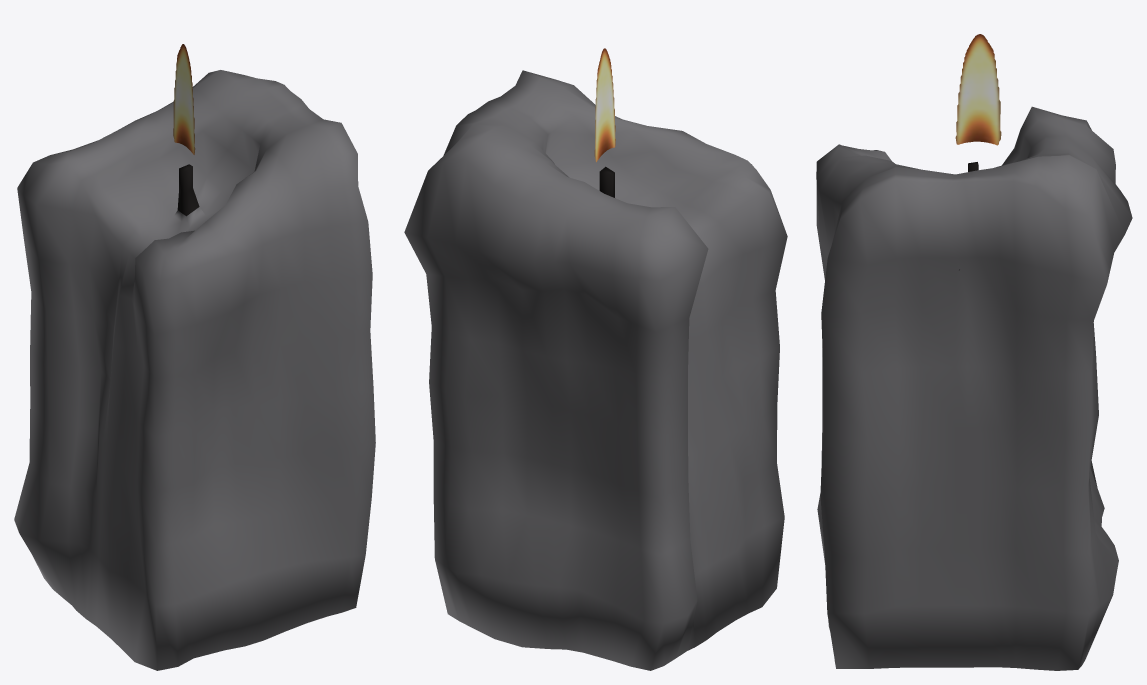
Rendered from candle tall.fbx.
3 renders of one model, left to right at view 1: azimuth 30°, elevation 25°; view 2: azimuth 150°, elevation 25°; view 3: azimuth 270°, elevation 25°, orthographic. The views are drawn at different scales.
Parts seen in each view (by area): view 1: candle tall, candlie tall_flame; view 2: candle tall, candlie tall_flame; view 3: candle tall, candlie tall_flame.
Boxes of the visible parts, x1,y1,x2,y2 form: candle tall: (14, 70, 375, 670); candlie tall_flame: (173, 44, 195, 154); candle tall: (404, 70, 787, 670); candlie tall_flame: (594, 48, 615, 162); candle tall: (816, 106, 1132, 670); candlie tall_flame: (955, 34, 1001, 145).
Bounding box in the file's own units: 0.071 × 0.1507 × 0.07.
2 materials, 2 textured.
